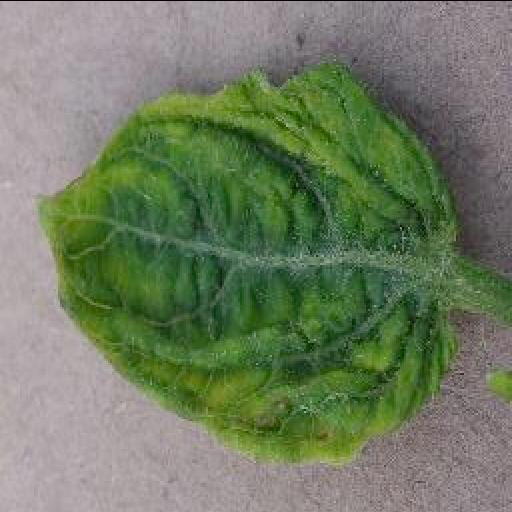disease_tomato: (36, 64, 460, 462)
